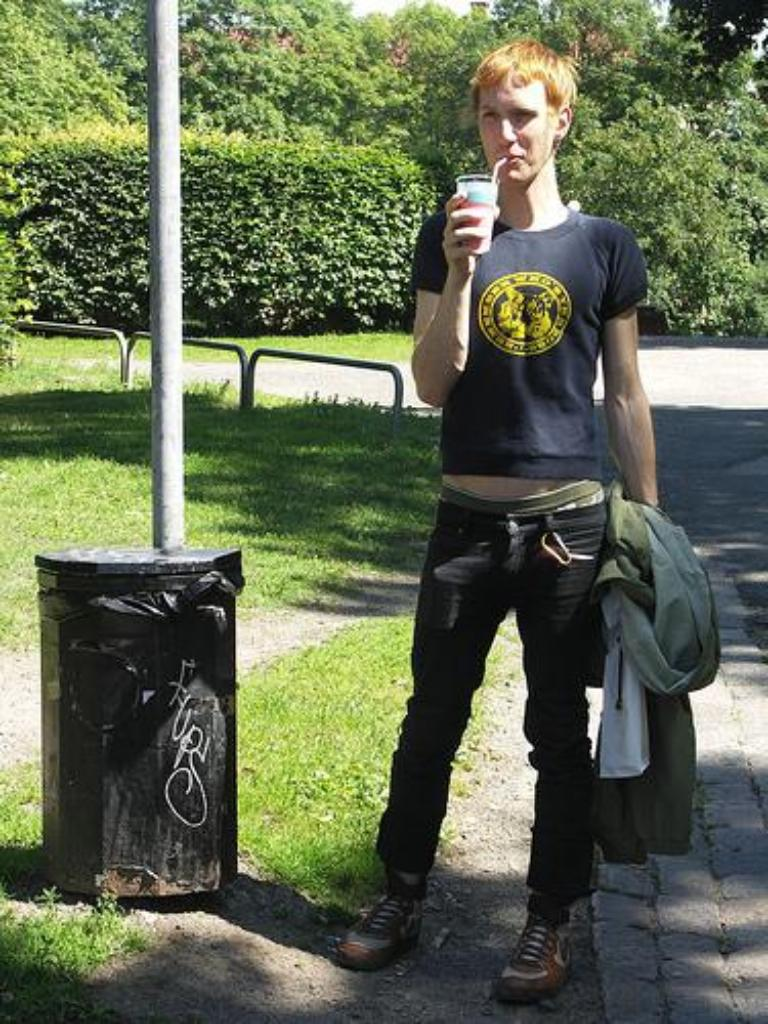dustbin: (23, 518, 276, 936)
